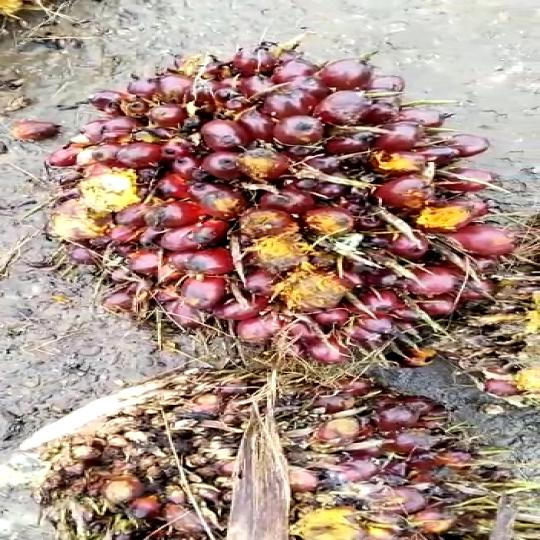masak: (53, 41, 540, 372), (0, 346, 540, 540)
